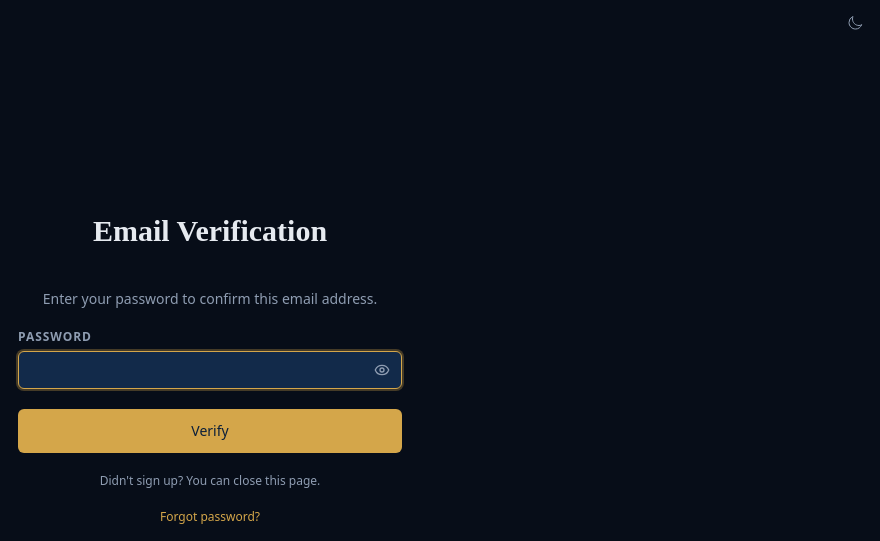
Scenario: verify-email page, password confirmation › a 409 on resubmit goes straight to the final screen with its message
This screenshot has width=880, height=541.
Type "pw-pw-pw-1" into the password field labelled "Password" at (210, 370), box [18,351,402,389]
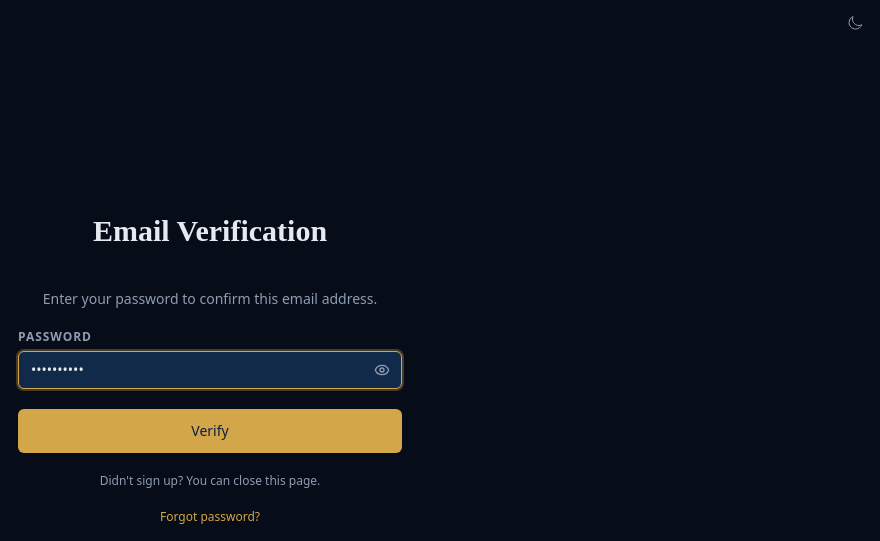
Click the button "Verify" at (210, 431), box [18,409,402,453]
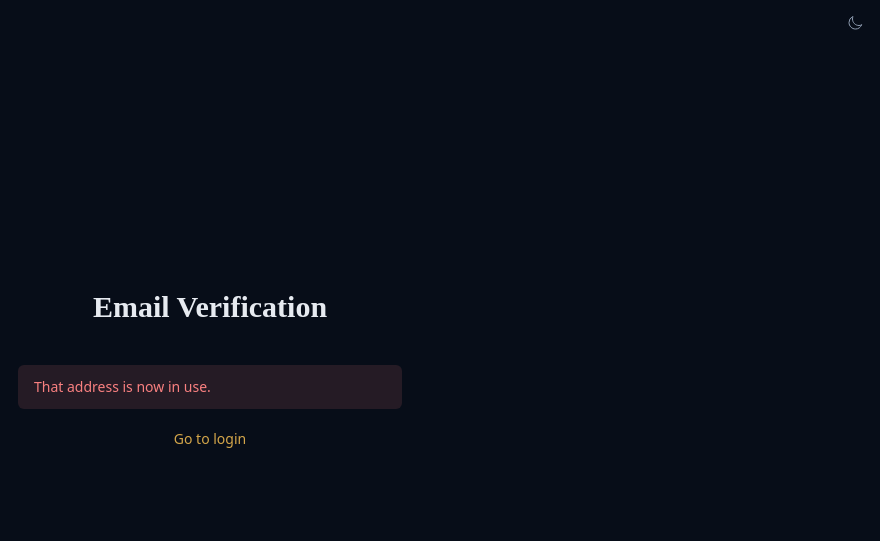
Expected: the text "That address is now in use." is shown, [18,365,402,409]
Expected: the text labelled "password" is gone
